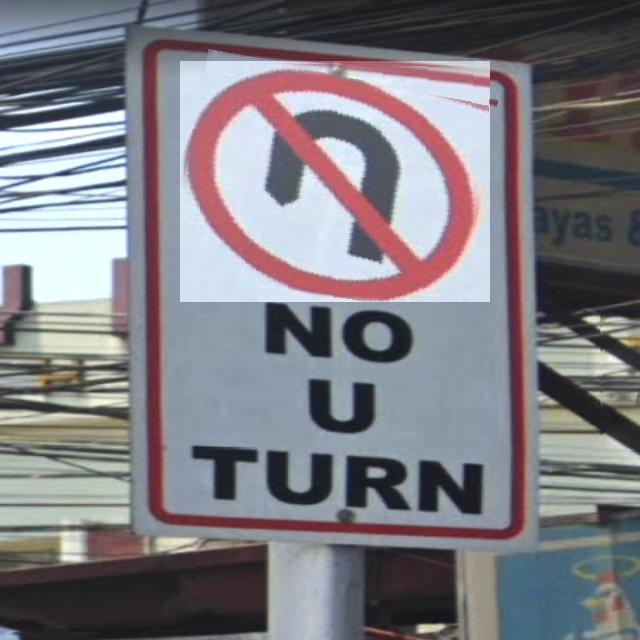no u turn: (180, 61, 490, 302)
